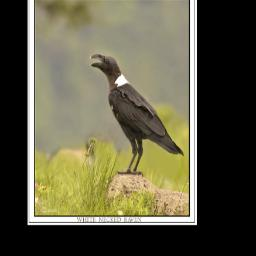Crow: (89, 53, 186, 177)
